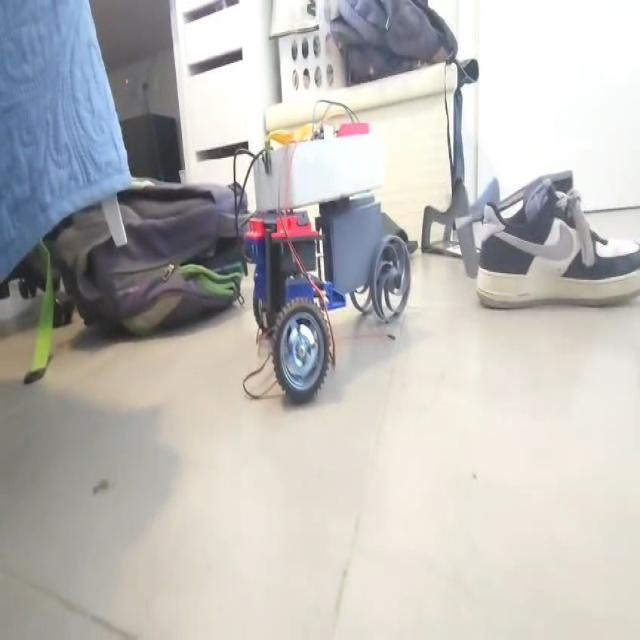Robot: (244, 119, 411, 404)
